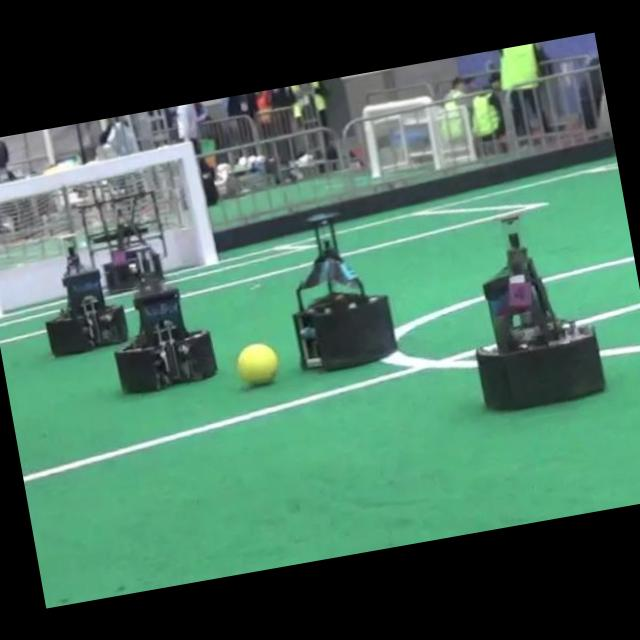ball: (236, 343, 278, 384)
goal: (177, 142, 218, 264)
robot: (476, 215, 605, 409), (293, 213, 397, 370), (115, 244, 217, 393), (78, 190, 165, 293), (46, 246, 127, 356)
